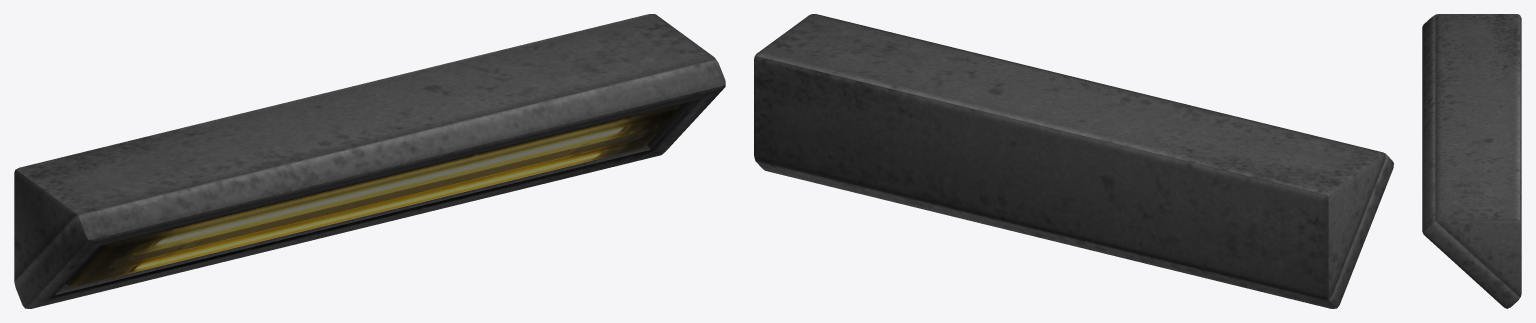
The model's file is lamp_3.obj.
The picture shows the model from 3 angles, left to right: view 1: azimuth 30°, elevation 25°; view 2: azimuth 150°, elevation 25°; view 3: azimuth 270°, elevation 25°; orthographic projection. The views are drawn at different scales.
Visible parts, largest first — view 1: lamp_3; view 2: lamp_3; view 3: lamp_3.
Boxes of the visible parts, x1,y1,x2,y2 form: lamp_3: [14, 14, 725, 308]; lamp_3: [754, 14, 1393, 308]; lamp_3: [1422, 14, 1521, 308].
Size of the model in its own units: 1.2 by 0.2425 by 0.2428.
